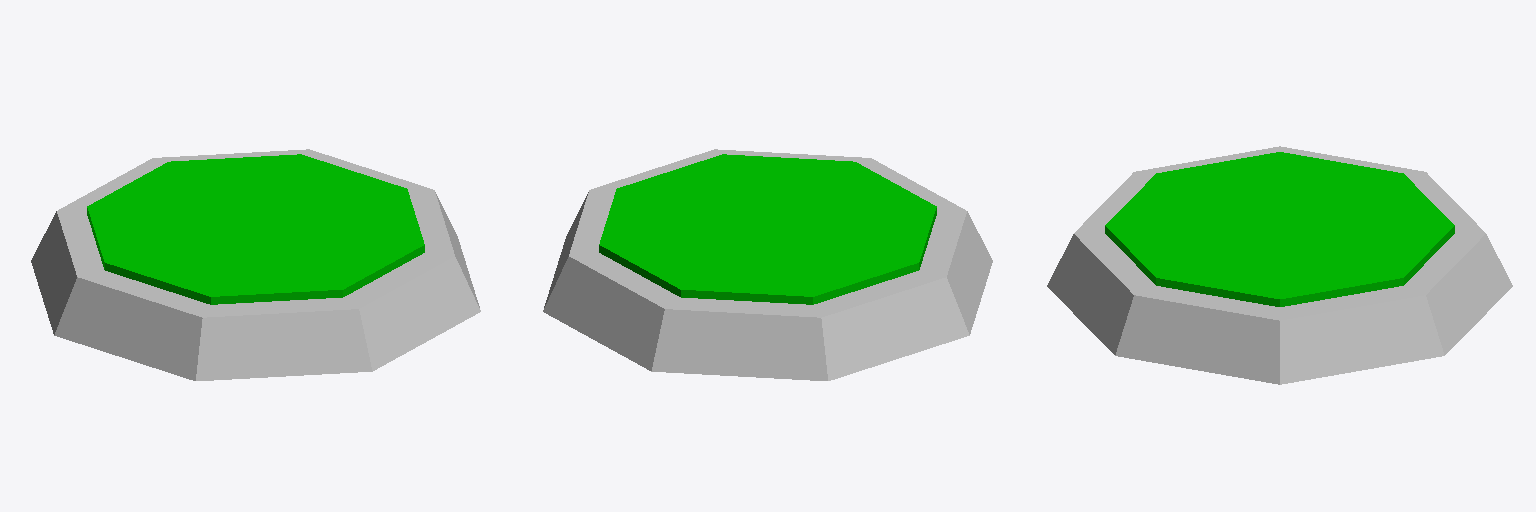
Rendered from Button_Active.obj.
The picture shows the model from 3 angles: view 1: azimuth 30°, elevation 25°; view 2: azimuth 150°, elevation 25°; view 3: azimuth 270°, elevation 25°; orthographic projection.
Visible parts, largest first — view 1: Base.001_Cylinder.002, Cylinder.001_Cylinder.003; view 2: Base.001_Cylinder.002, Cylinder.001_Cylinder.003; view 3: Base.001_Cylinder.002, Cylinder.001_Cylinder.003.
Boxes of the visible parts, <box> form: Base.001_Cylinder.002: <box>31,149,480,380</box>; Cylinder.001_Cylinder.003: <box>87,154,424,304</box>; Base.001_Cylinder.002: <box>543,149,992,380</box>; Cylinder.001_Cylinder.003: <box>599,154,936,304</box>; Base.001_Cylinder.002: <box>1047,146,1512,384</box>; Cylinder.001_Cylinder.003: <box>1105,152,1454,306</box>.
Size of the model in its own units: 4 by 0.5745 by 4.